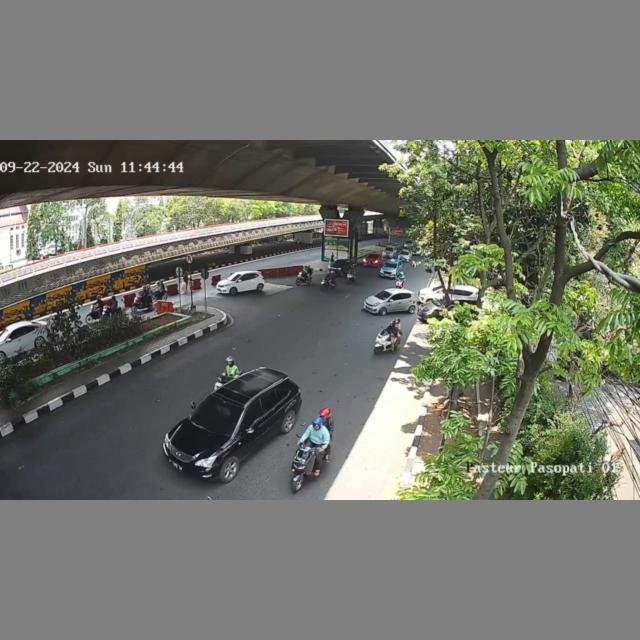windshield: (188, 395, 246, 436), (375, 290, 392, 300)
